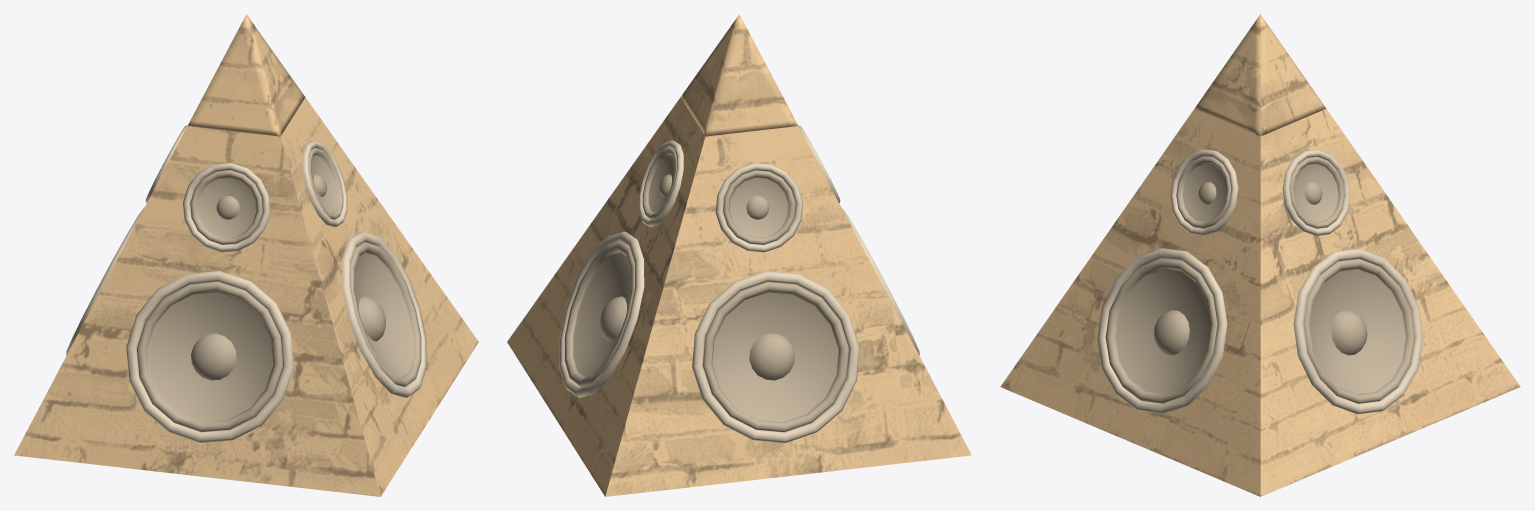
3 renders of one model, left to right at view 1: azimuth 30°, elevation 25°; view 2: azimuth 150°, elevation 25°; view 3: azimuth 270°, elevation 25°, orthographic. The views are drawn at different scales.
Parts seen in each view (by area): view 1: pyramidBase, speaker2, borders, pyramidTop, speaker4, speaker1, speaker3; view 2: pyramidBase, speaker8, borders, pyramidTop, speaker6, speaker7, speaker5; view 3: pyramidBase, speaker4, speaker6, borders, pyramidTop, speaker3, speaker5.
Part boxes in pixels (x1,y1,x2,y2): pyramidBase: (14, 97, 478, 496); speaker2: (137, 282, 282, 432); borders: (66, 125, 426, 442); pyramidTop: (187, 14, 305, 136); speaker4: (351, 242, 421, 386); speaker1: (190, 170, 262, 244); speaker3: (309, 147, 343, 219); pyramidBase: (507, 97, 971, 496); speaker8: (703, 282, 848, 432); borders: (559, 125, 919, 442); pyramidTop: (680, 14, 798, 136); speaker6: (564, 242, 634, 386); speaker7: (723, 170, 795, 244); speaker5: (642, 147, 676, 219); pyramidBase: (1000, 108, 1520, 496); speaker4: (1105, 258, 1217, 403); speaker6: (1303, 258, 1415, 403); borders: (1097, 149, 1423, 414); pyramidTop: (1194, 14, 1326, 136); speaker3: (1176, 156, 1231, 228); speaker5: (1289, 156, 1344, 228).
Bounding box in the file's own units: 3.94 × 3.11 × 3.94.
